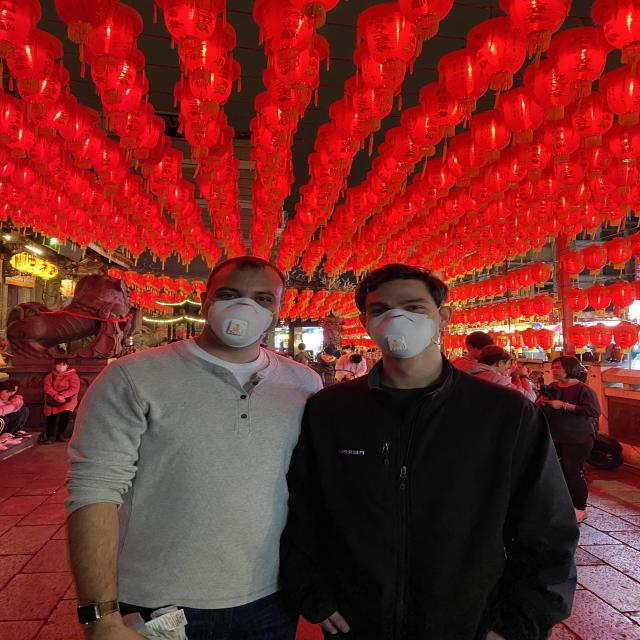face: (202, 270, 284, 348), (362, 280, 441, 360), (551, 361, 577, 382), (493, 357, 513, 375), (54, 362, 68, 374), (0, 389, 12, 401), (9, 385, 19, 397)
